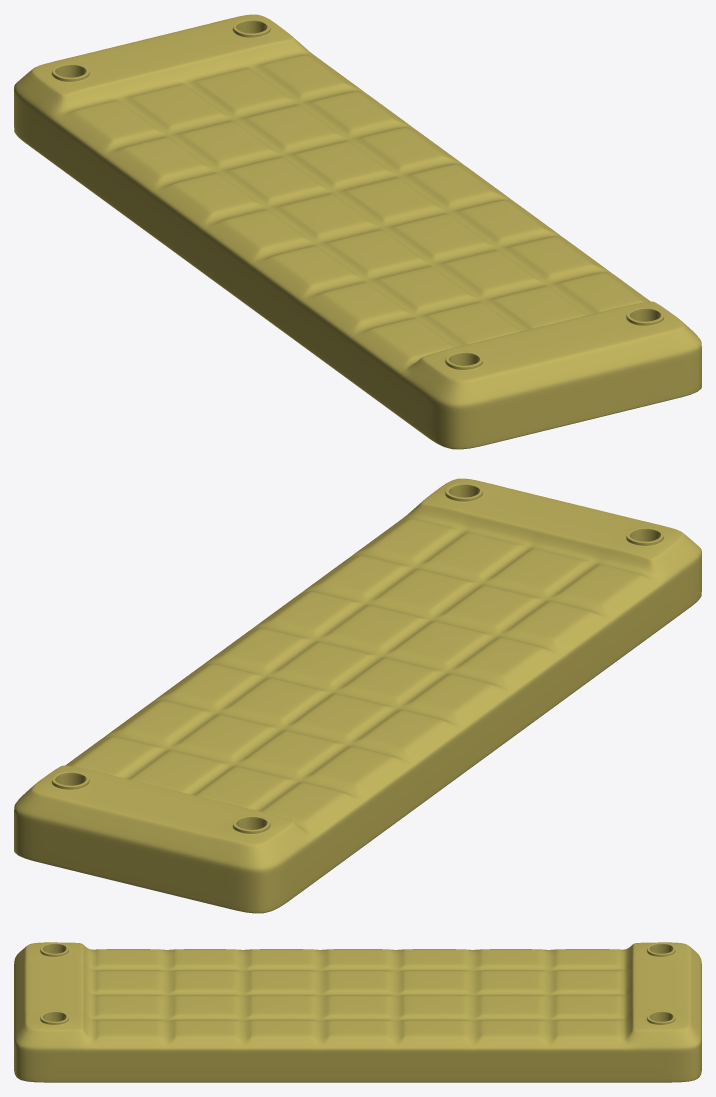
Rendered from Swing.fbx.
The picture shows the model from 3 angles, top to bottom: view 1: azimuth 30°, elevation 25°; view 2: azimuth 150°, elevation 25°; view 3: azimuth 270°, elevation 25°; orthographic projection. The views are drawn at different scales.
Parts seen in each view (by area): view 1: Cube; view 2: Cube; view 3: Cube.
Part boxes in pixels (box(x1,y1,x2,y2)): Cube: box(14, 14, 701, 449); Cube: box(14, 478, 701, 913); Cube: box(14, 942, 701, 1082).
Bounding box in the file's own units: 16.99 × 4.07 × 49.99.
